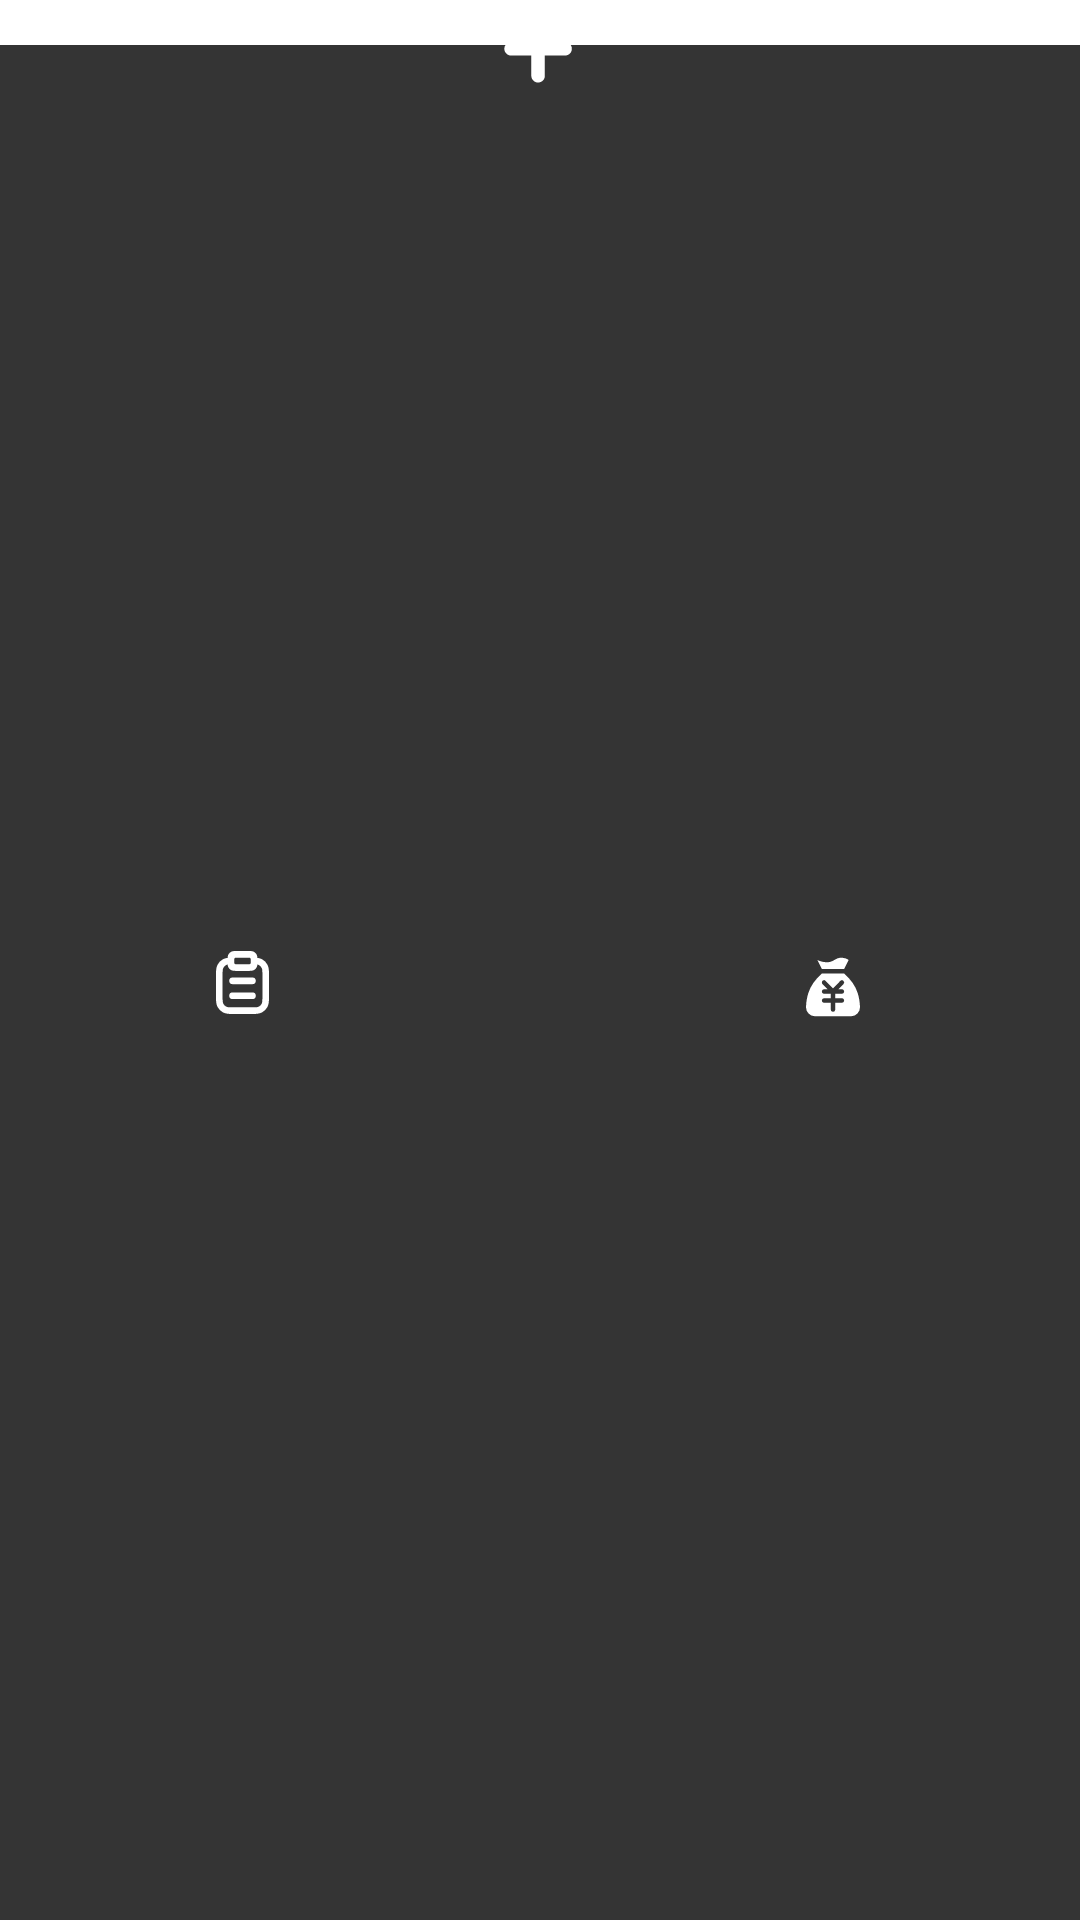

Point at icon controls on the screen. Image size 1080 × 1920, points as (x=x, y=y).
bar assets: (x=833, y=987)
bar book: (x=242, y=982)
